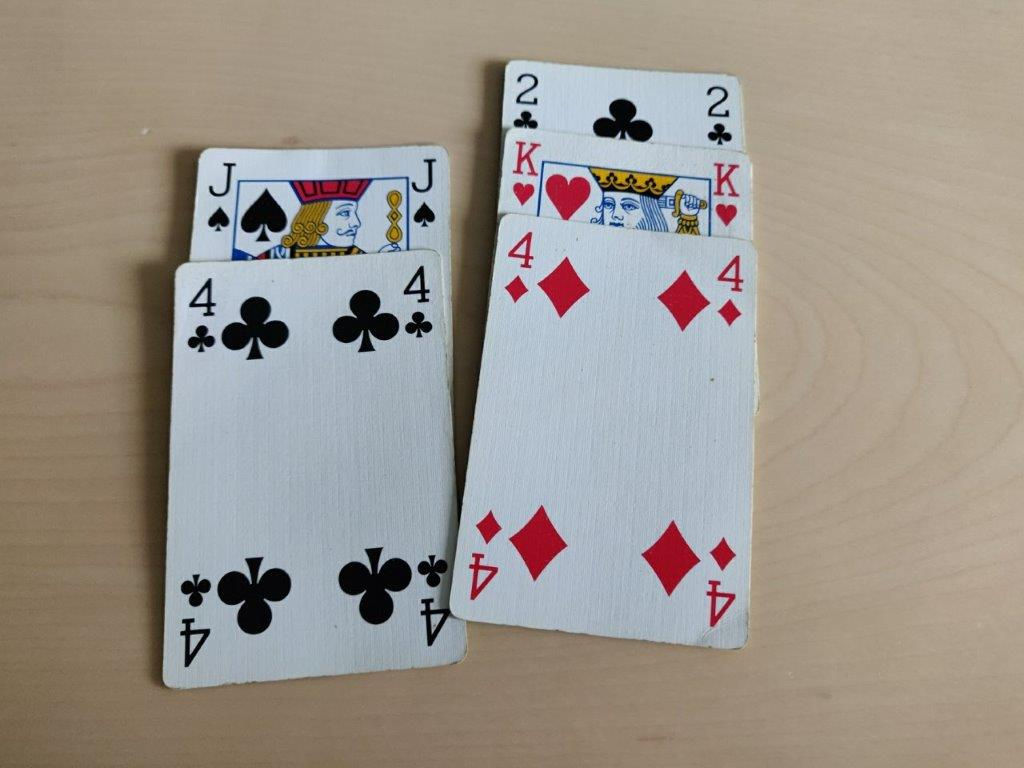2C: (698, 82, 735, 150), (507, 68, 544, 132)
4C: (180, 271, 222, 364), (397, 258, 439, 351)
4D: (497, 224, 538, 312), (712, 248, 753, 336)
JS: (202, 152, 239, 238), (407, 154, 444, 240)
KH: (512, 135, 544, 211), (711, 158, 743, 234)
